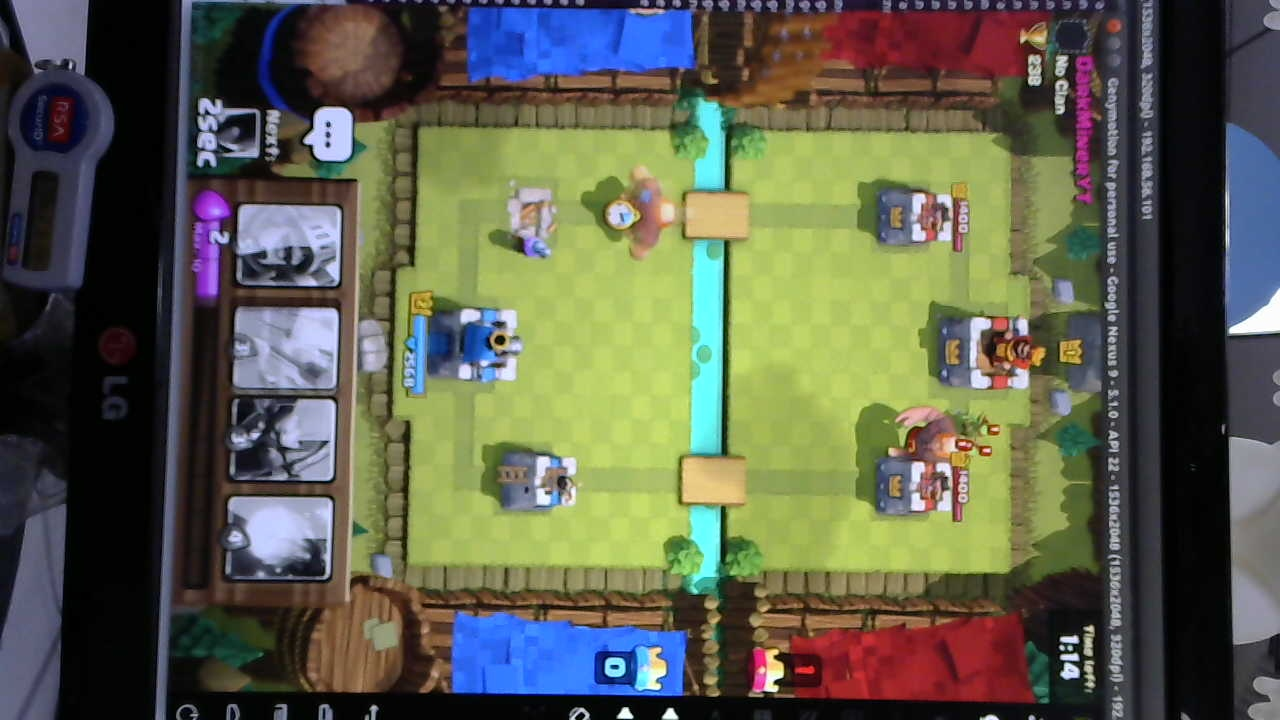arena: (495, 446, 581, 513)
darena: (501, 180, 561, 247)
earena: (871, 457, 955, 522), (872, 189, 958, 251)
eking: (927, 308, 1045, 393)
giant: (612, 174, 669, 253), (892, 397, 960, 463)
king: (423, 304, 524, 382)
musketeer: (500, 232, 560, 260)
